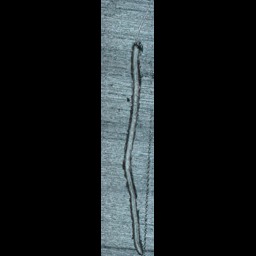d: (121, 37, 148, 255)
